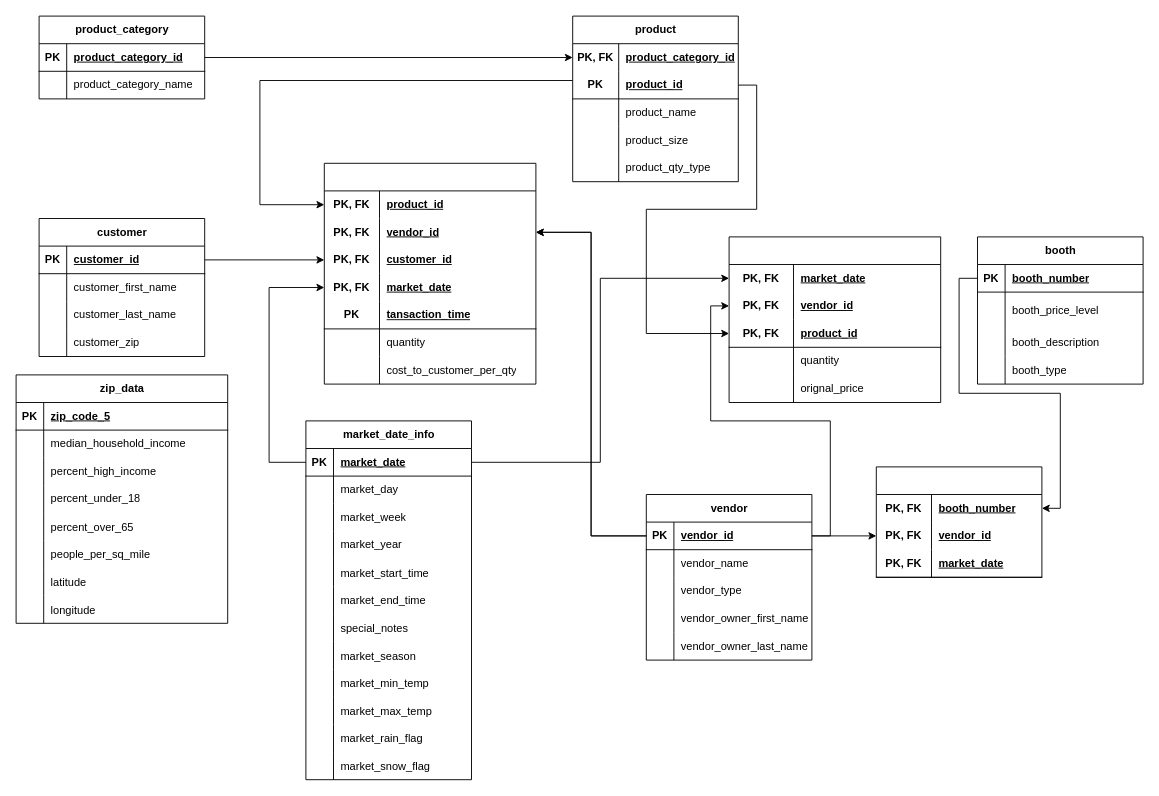
Image size: 1159x796. Some labels were removed from this diagram. The shapes that lost their labels are listed below. From the top down, each one's box as (x1, y1, x2, y2) in pixels, then its label:
(323, 162, 536, 384): customer_purchase
(728, 236, 941, 402): vendor_inventory
(875, 466, 1042, 577): vendor_booth_assignments
